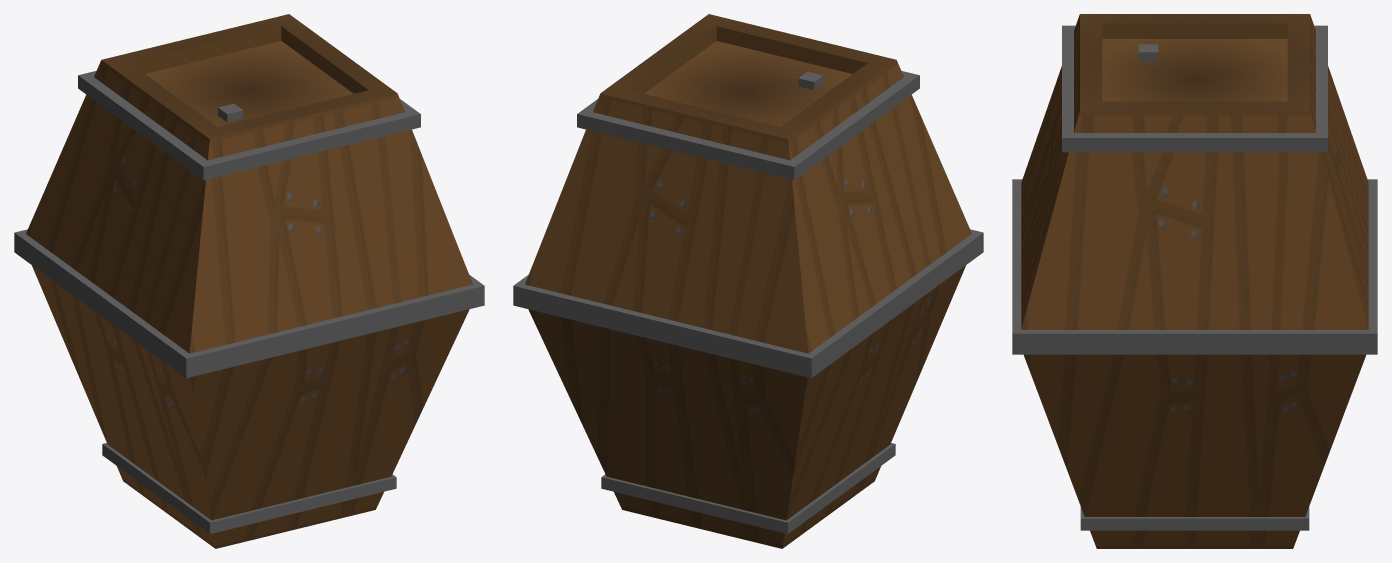
Rendered from barrel_x2.fbx.
3 views of the same model, side by side, from view 1: azimuth 30°, elevation 25°; view 2: azimuth 150°, elevation 25°; view 3: azimuth 270°, elevation 25° (orthographic). The views are drawn at different scales.
Visible parts, largest first — view 1: Barrel_x2; view 2: Barrel_x2; view 3: Barrel_x2.
Boxes of the visible parts, bbox=[...] form: Barrel_x2: bbox=[14, 14, 484, 548]; Barrel_x2: bbox=[513, 14, 983, 548]; Barrel_x2: bbox=[1012, 14, 1377, 548].
Size of the model in its own units: 3.72 by 3.72 by 5.
